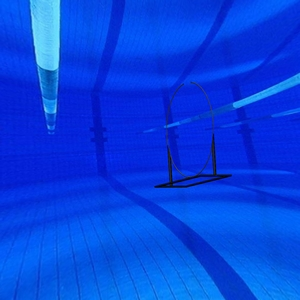circle: (154, 79, 234, 190)
